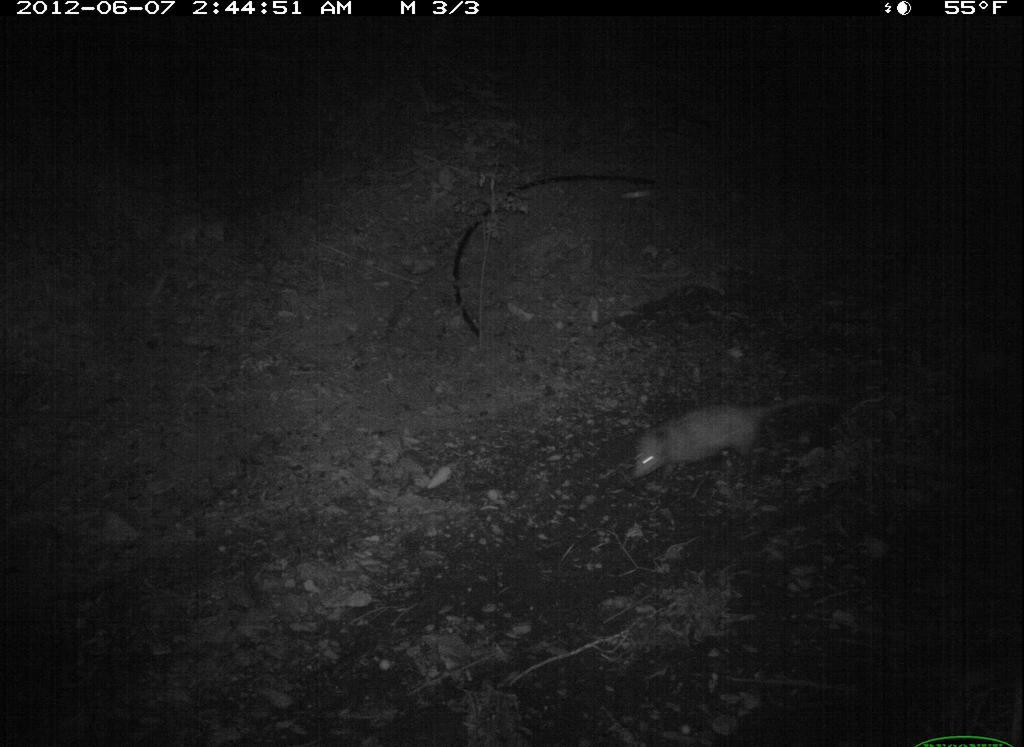opossum: (630, 382, 830, 486)
